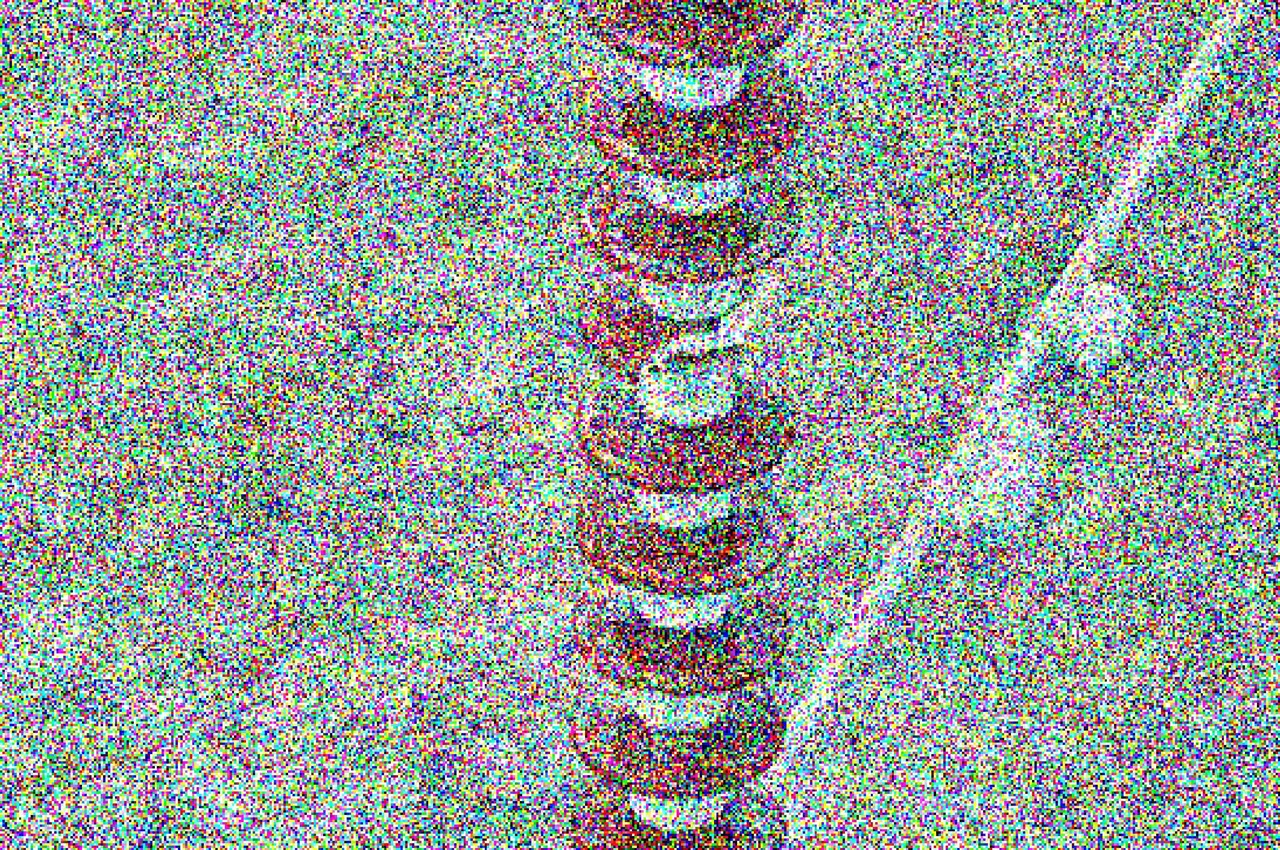Broken: (567, 269, 788, 380)
No issues: (563, 559, 793, 697), (562, 663, 792, 801), (575, 41, 805, 179), (574, 149, 804, 272), (570, 474, 799, 597), (569, 380, 799, 496), (558, 769, 790, 850), (576, 0, 806, 74)
String: (550, 2, 817, 850)
